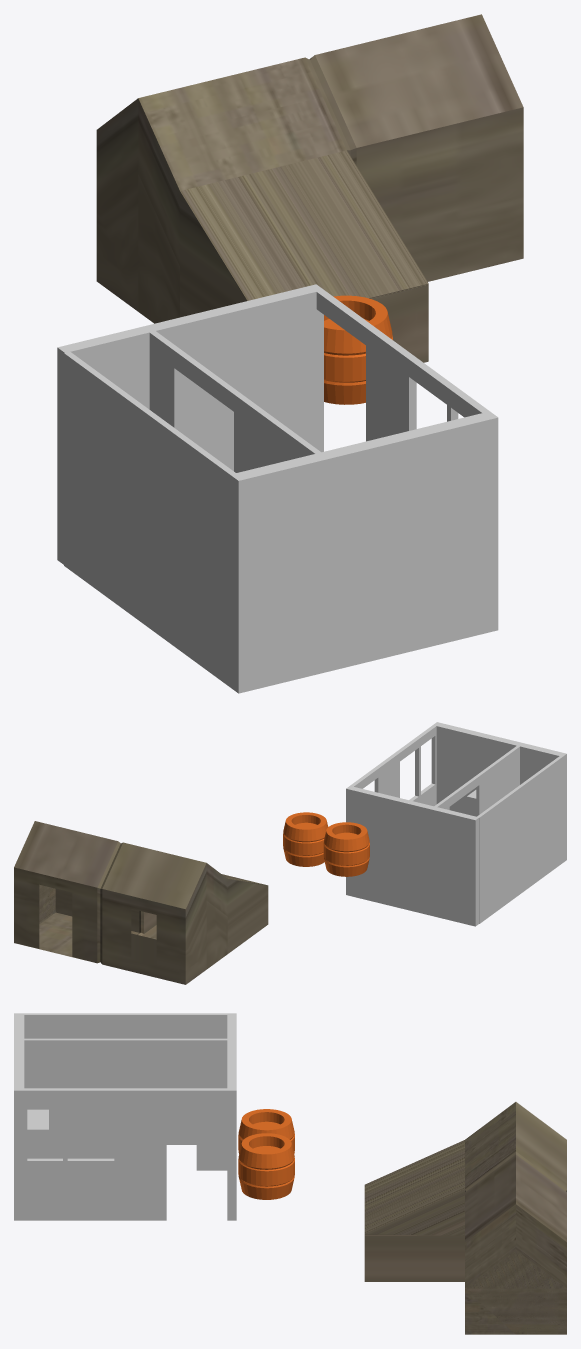
File: Barel.glb
The picture shows the model from 3 angles, top to bottom: view 1: azimuth 30°, elevation 25°; view 2: azimuth 150°, elevation 25°; view 3: azimuth 270°, elevation 25°; orthographic projection. The views are drawn at different scales.
Parts seen in each view (by area): view 1: Cube.006, Cube.009, Cylinder.012; view 2: Cube.006, Cube.009, Cylinder.013, Cylinder.012; view 3: Cube.006, Cube.009, Cylinder.012, Cylinder.013.
Part boxes in pixels (x1,y1,x2,y2): Cube.006: (57, 284, 498, 693); Cube.009: (96, 14, 523, 362); Cylinder.012: (324, 295, 392, 404); Cube.006: (346, 722, 566, 926); Cube.009: (14, 821, 268, 984); Cylinder.013: (323, 822, 369, 876); Cylinder.012: (283, 812, 328, 866); Cube.006: (14, 1013, 236, 1220); Cube.009: (364, 1102, 566, 1334); Cylinder.012: (238, 1133, 294, 1199); Cylinder.013: (238, 1109, 294, 1153).
Bounding box in the file's own units: 4.5 × 1.44 × 5.39.
Materials: 2 (1 with a texture image).
